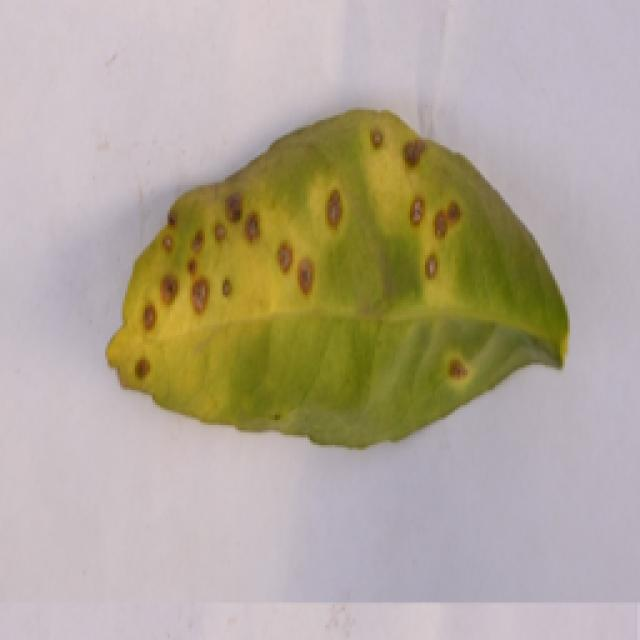canker: (101, 114, 525, 468)
